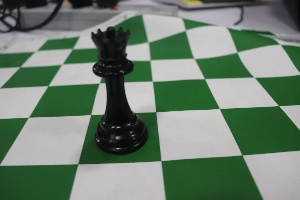black_queen: (73, 16, 151, 159)
